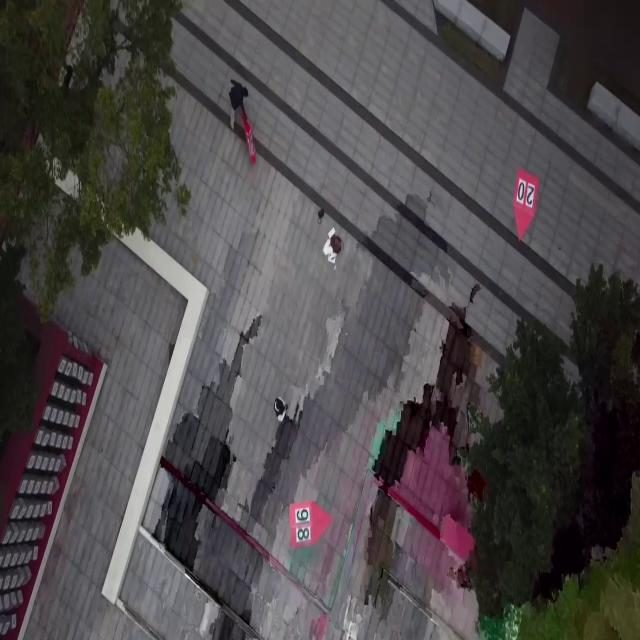-sign-: (513, 167, 539, 243), (290, 500, 327, 548)
